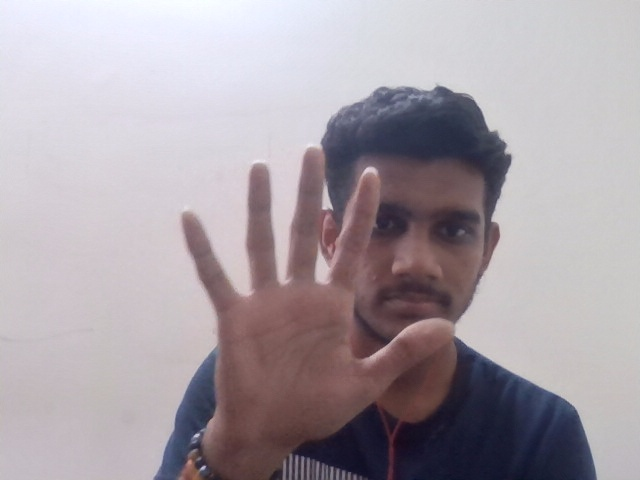hello: (169, 142, 456, 451)
